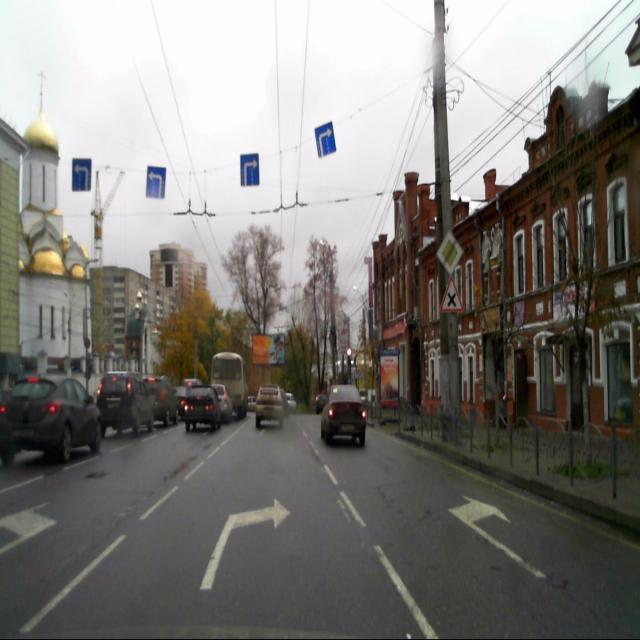road sign: (436, 229, 463, 275), (440, 275, 464, 312), (314, 121, 336, 156), (72, 156, 92, 191), (146, 165, 166, 199), (240, 153, 259, 187)
